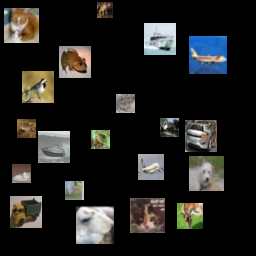airplane: (189, 36, 227, 74), (138, 154, 164, 180)
automobile: (185, 120, 217, 152)
bird: (22, 71, 54, 103)
cat: (130, 198, 165, 233), (4, 8, 39, 43), (12, 164, 31, 183)
deer: (177, 203, 203, 229), (65, 181, 84, 200)
dog: (189, 156, 224, 191)
frog: (59, 46, 91, 78), (17, 119, 36, 138), (116, 94, 135, 113), (91, 130, 110, 149), (97, 2, 113, 18)
ship: (144, 23, 176, 55), (38, 131, 70, 163)
